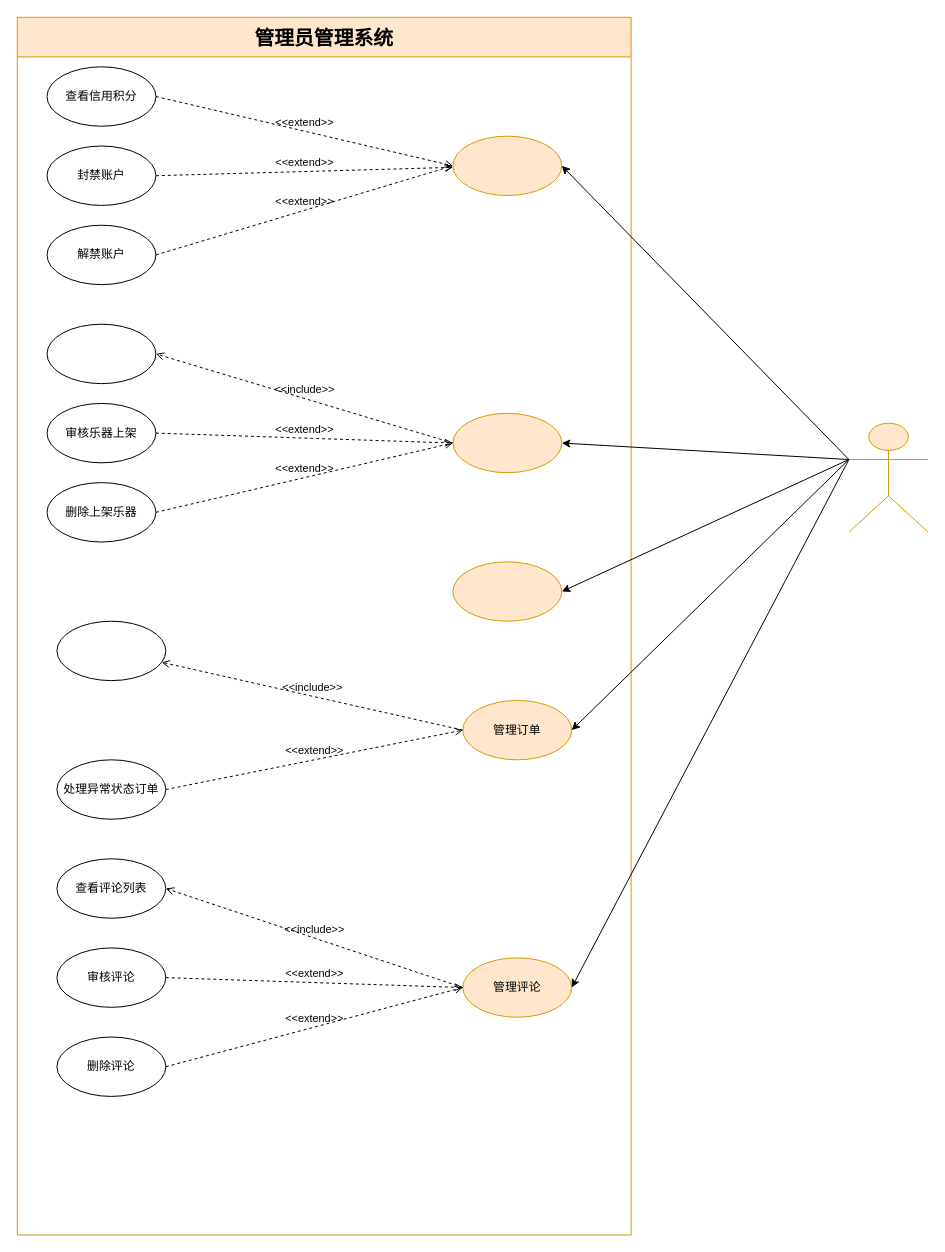
Image size: 945x1252. Some labels were removed from this diagram. The box of each missing label's shape, as (x1, y1, x2, y2) in pixels:
制定和调整平台交易规则: (452, 561, 562, 621)
查看待审核乐器列表: (46, 323, 156, 384)
查看所有订单: (56, 620, 166, 681)
管理乐器: (452, 412, 562, 473)
管理员: (848, 422, 928, 532)
管理用户: (452, 135, 562, 196)
